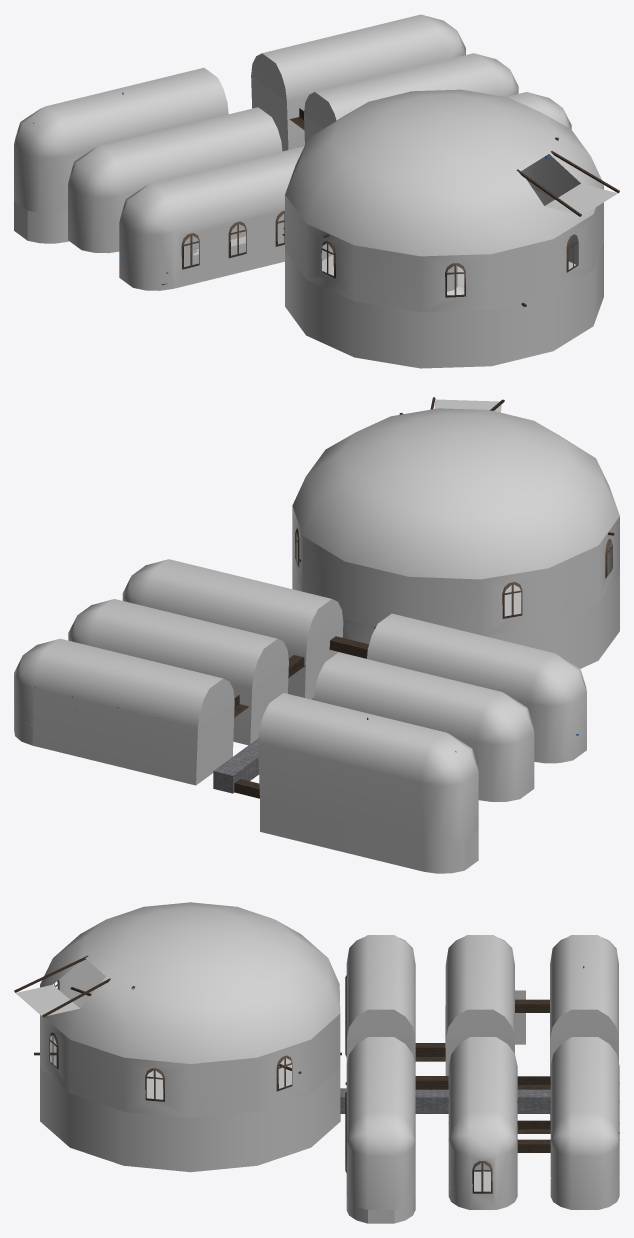
Rendered from hus03_export.obj.
The picture shows the model from 3 angles, top to bottom: view 1: azimuth 30°, elevation 25°; view 2: azimuth 150°, elevation 25°; view 3: azimuth 270°, elevation 25°; orthographic projection. The views are drawn at different scales.
Parts seen in each view (by area): view 1: church; view 2: church; view 3: church.
Part boxes in pixels (left/top/right/bottom): church: left=14, top=14, right=619, bottom=368; church: left=14, top=397, right=619, bottom=873; church: left=14, top=902, right=619, bottom=1223.
Size of the model in its own units: 823 by 387 by 1016.
